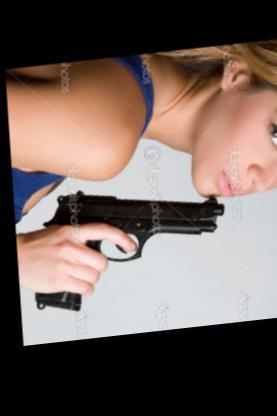pistol: (25, 180, 228, 319)
